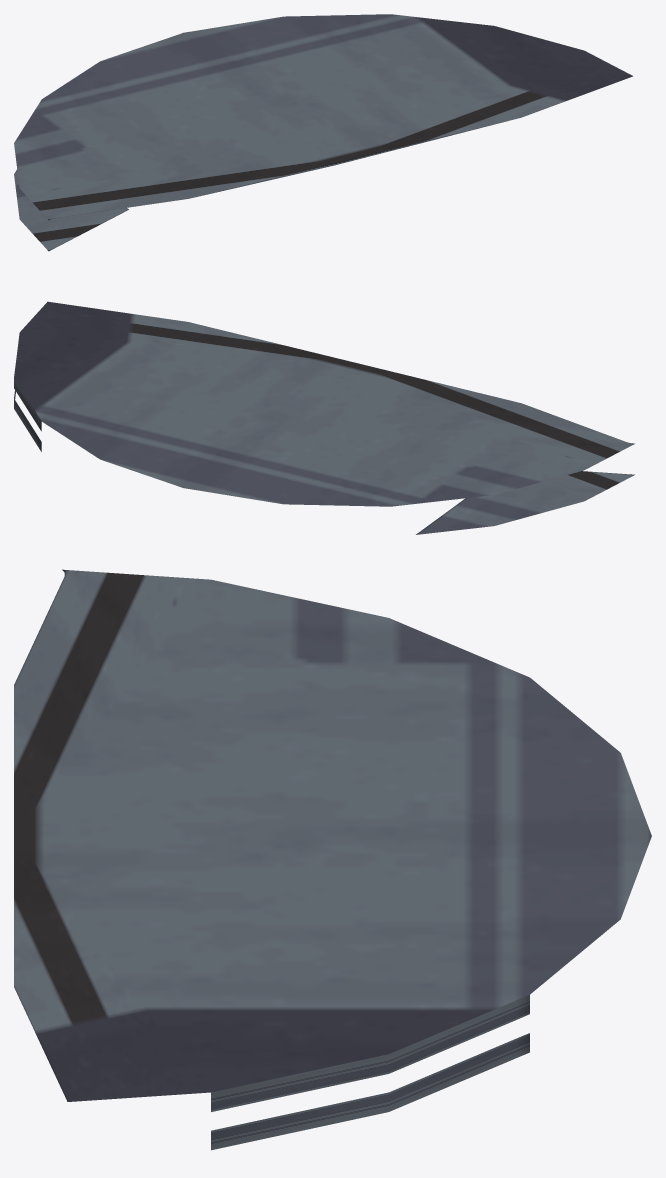
The model's file is halfCircle.fbx.
3 renders of one model, top to bottom at view 1: azimuth 30°, elevation 25°; view 2: azimuth 150°, elevation 25°; view 3: azimuth 270°, elevation 25°, orthographic. The views are drawn at different scales.
Parts seen in each view (by area): view 1: halfCircle; view 2: halfCircle; view 3: halfCircle.
Part boxes in pixels (x1,y1,x2,y2): halfCircle: (14,14,632,251); halfCircle: (14,301,634,534); halfCircle: (14,569,651,1150).
Size of the model in its own units: 400 by 20 by 200.
